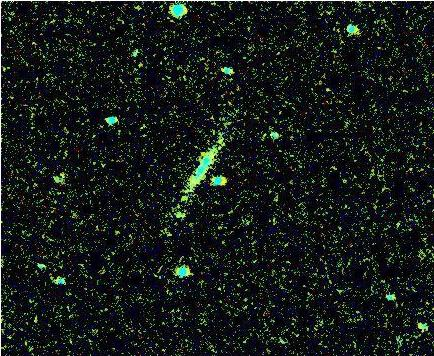star: (165, 192, 195, 222)
